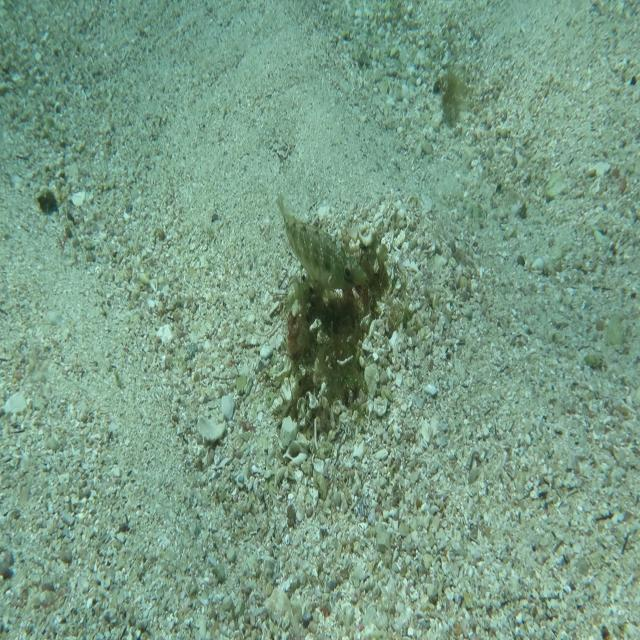FAN: (274, 191, 369, 291)
nest: (270, 216, 400, 424)
vegetation: (438, 63, 466, 131), (37, 183, 59, 215)
